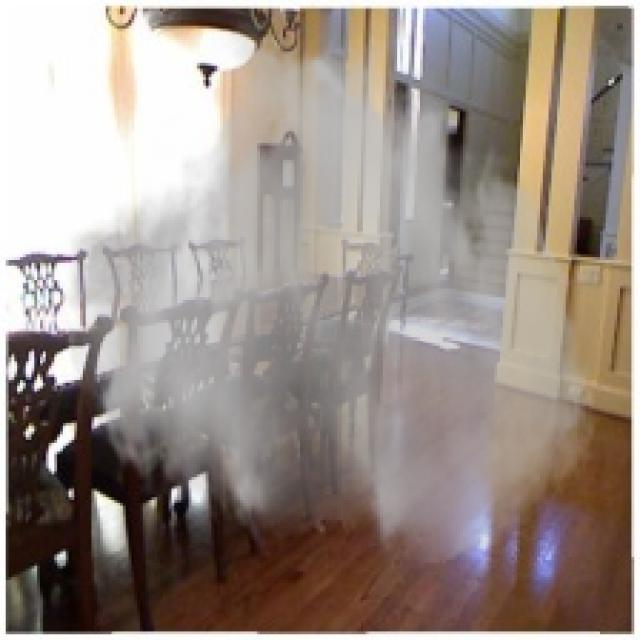smoke: (60, 17, 600, 569)
